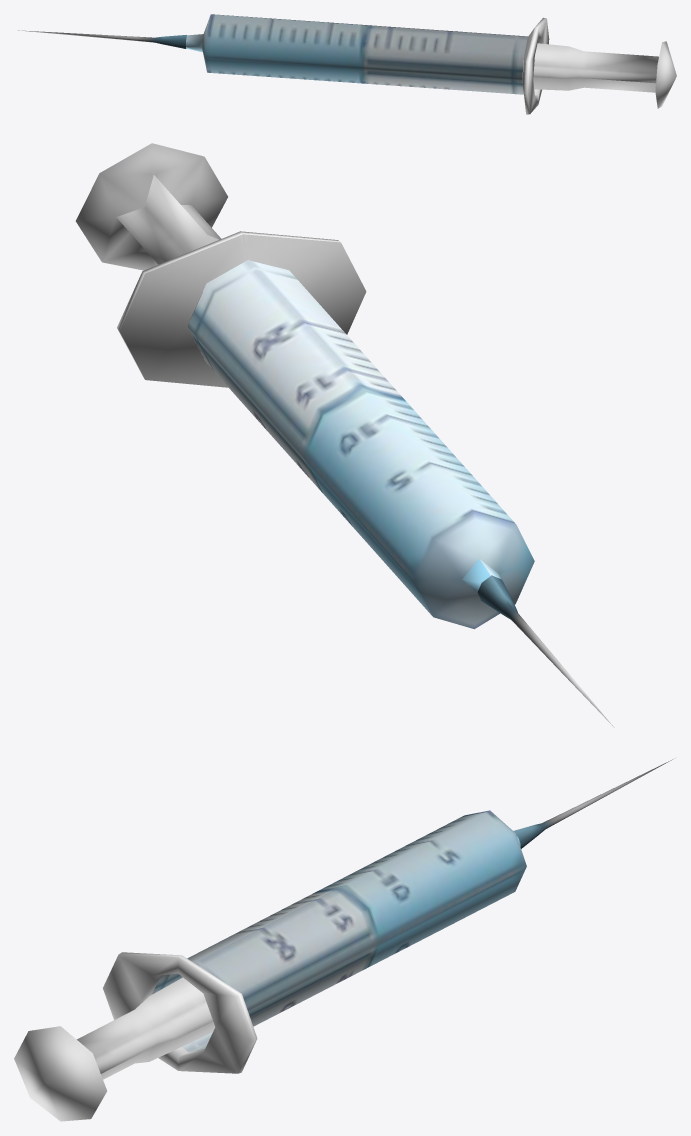
The model's file is XiuXiShi_01_zhusheqi_01.FBX.
3 renders of one model, top to bottom at view 1: azimuth 30°, elevation 25°; view 2: azimuth 150°, elevation 25°; view 3: azimuth 270°, elevation 25°, orthographic. The views are drawn at different scales.
Visible parts, largest first — view 1: XiuXiShi_zhusheqi; view 2: XiuXiShi_zhusheqi; view 3: XiuXiShi_zhusheqi.
Boxes of the visible parts, x1=… form: XiuXiShi_zhusheqi: x1=18, y1=14, x2=676, y2=114; XiuXiShi_zhusheqi: x1=75, y1=143, x2=614, y2=727; XiuXiShi_zhusheqi: x1=14, y1=758, x2=674, y2=1121.
Bounding box in the file's own units: 73.86 × 11.82 × 61.98.
